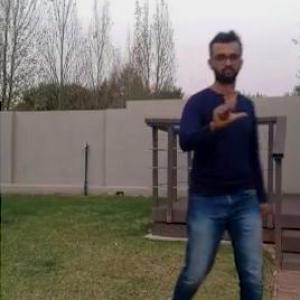land_hand: (206, 88, 251, 131)
